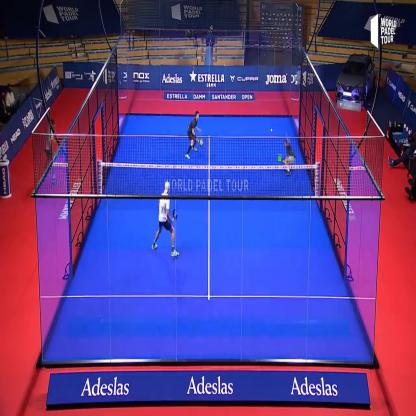ball: (269, 125, 274, 137)
